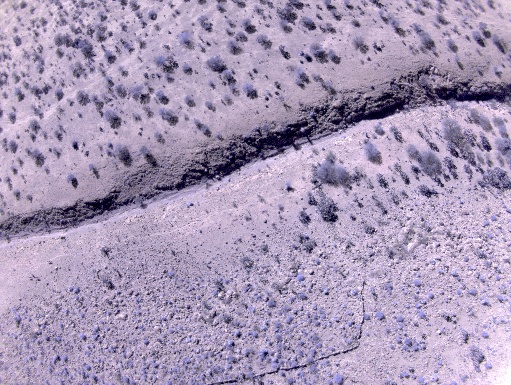agave: (332, 373, 344, 385), (256, 348, 269, 358), (374, 311, 385, 322), (294, 274, 307, 283), (394, 314, 406, 323), (309, 346, 318, 358), (411, 343, 421, 353), (417, 311, 428, 320), (479, 273, 488, 284), (414, 279, 423, 289), (402, 337, 412, 346), (285, 315, 294, 325), (468, 288, 477, 298), (484, 361, 494, 370), (480, 331, 490, 340), (362, 313, 371, 322), (79, 333, 89, 341), (227, 340, 236, 348), (72, 286, 81, 294), (498, 295, 505, 305), (427, 292, 435, 300), (414, 302, 422, 310), (402, 371, 410, 379), (450, 268, 458, 276), (490, 214, 498, 222), (416, 376, 425, 383), (142, 339, 151, 346), (419, 298, 427, 305), (346, 321, 354, 328), (234, 330, 241, 338), (252, 331, 260, 338), (62, 355, 69, 363), (83, 364, 91, 371), (58, 321, 65, 329), (151, 362, 160, 368), (272, 357, 279, 364), (456, 289, 463, 296), (314, 320, 321, 326), (483, 221, 490, 227), (226, 364, 233, 370)
